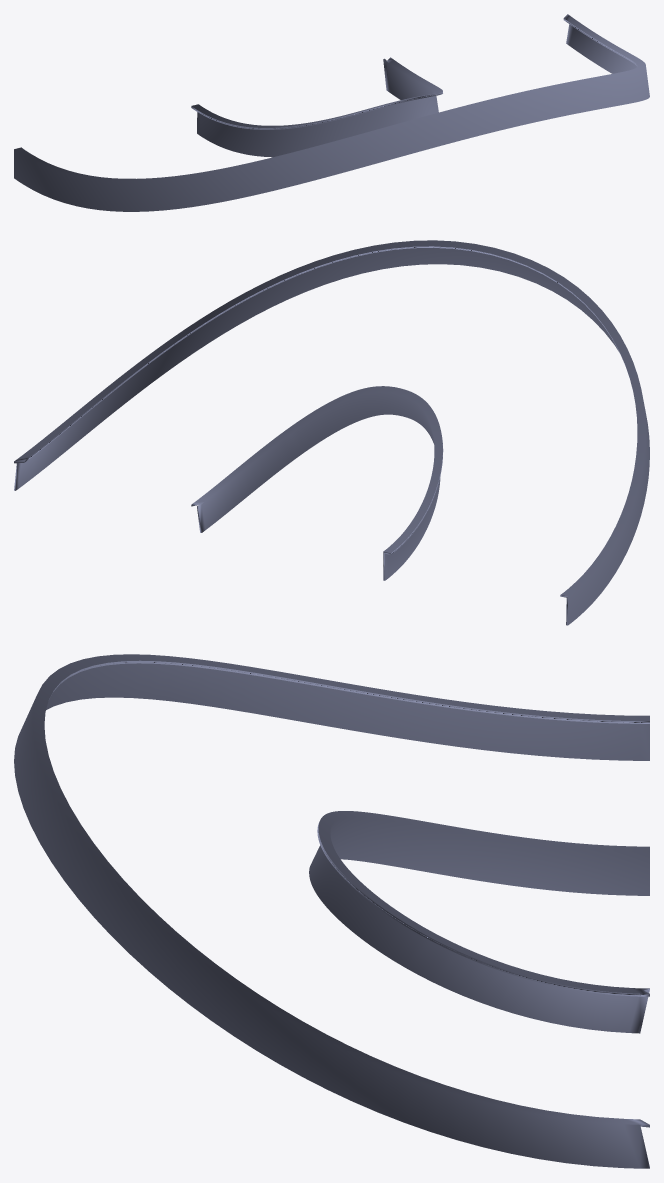
The model's file is bankWall.fbx.
3 views of the same model, one above another, from view 1: azimuth 30°, elevation 25°; view 2: azimuth 150°, elevation 25°; view 3: azimuth 270°, elevation 25° (orthographic). The views are drawn at different scales.
Visible parts, largest first — view 1: ModularTrackBank; view 2: ModularTrackBank; view 3: ModularTrackBank.
Part boxes in pixels (x1=…): ModularTrackBank: x1=14, y1=14, x2=649, y2=211; ModularTrackBank: x1=14, y1=240, x2=649, y2=625; ModularTrackBank: x1=14, y1=654, x2=649, y2=1168.
Bounding box in the file's own units: 3000 × 833 × 1971.
